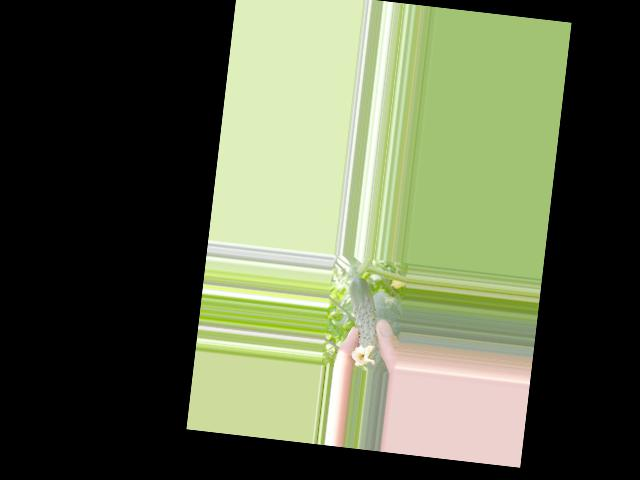cucumber: (340, 275, 384, 366)
